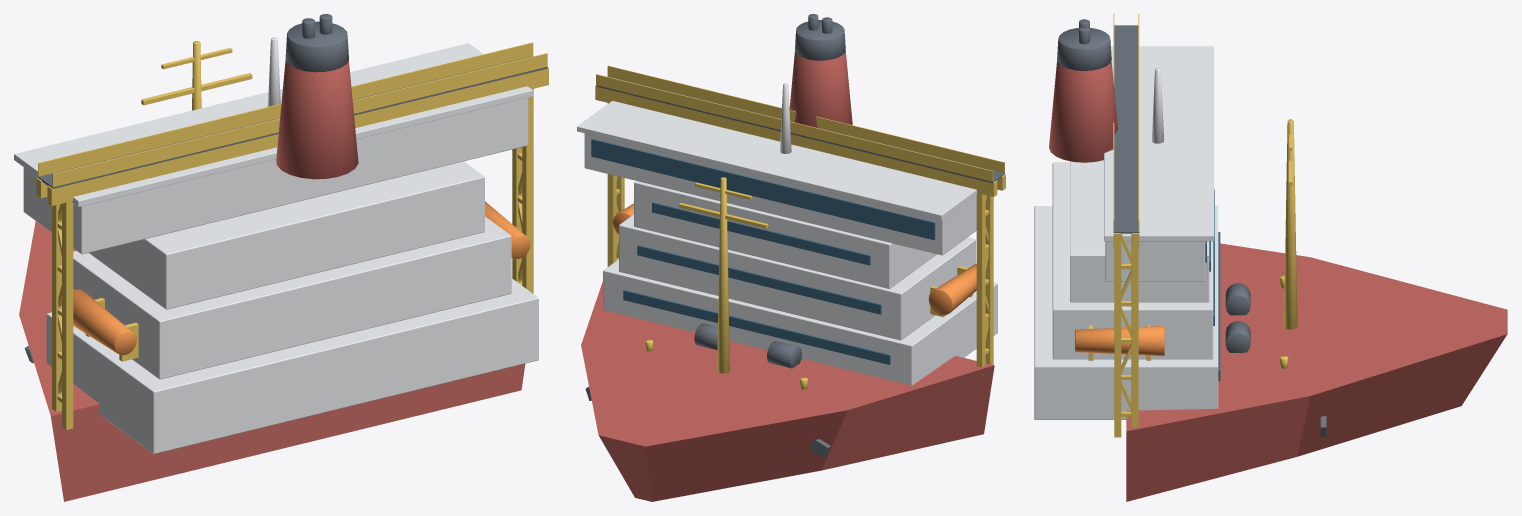
Rendered from ship_structures.glb.
3 renders of one model, left to right at view 1: azimuth 30°, elevation 25°; view 2: azimuth 150°, elevation 25°; view 3: azimuth 270°, elevation 25°, orthographic. The views are drawn at different scales.
Parts seen in each view (by area): view 1: BridgeSuperstructure, GantryCrane, ForecastleBow; view 2: BridgeSuperstructure, ForecastleBow, GantryCrane; view 3: BridgeSuperstructure, ForecastleBow, GantryCrane.
Part boxes in pixels (<box>): BridgeSuperstructure: <box>14,14,538,453</box>; GantryCrane: <box>36,42,548,430</box>; ForecastleBow: <box>19,41,525,501</box>; BridgeSuperstructure: <box>577,14,997,385</box>; ForecastleBow: <box>581,177,994,501</box>; GantryCrane: <box>595,65,1005,376</box>; BridgeSuperstructure: <box>1034,19,1220,419</box>; ForecastleBow: <box>1126,119,1507,501</box>; GantryCrane: <box>1113,14,1139,437</box>.
Bounding box in the file's own units: 37.4 × 32 × 36.
